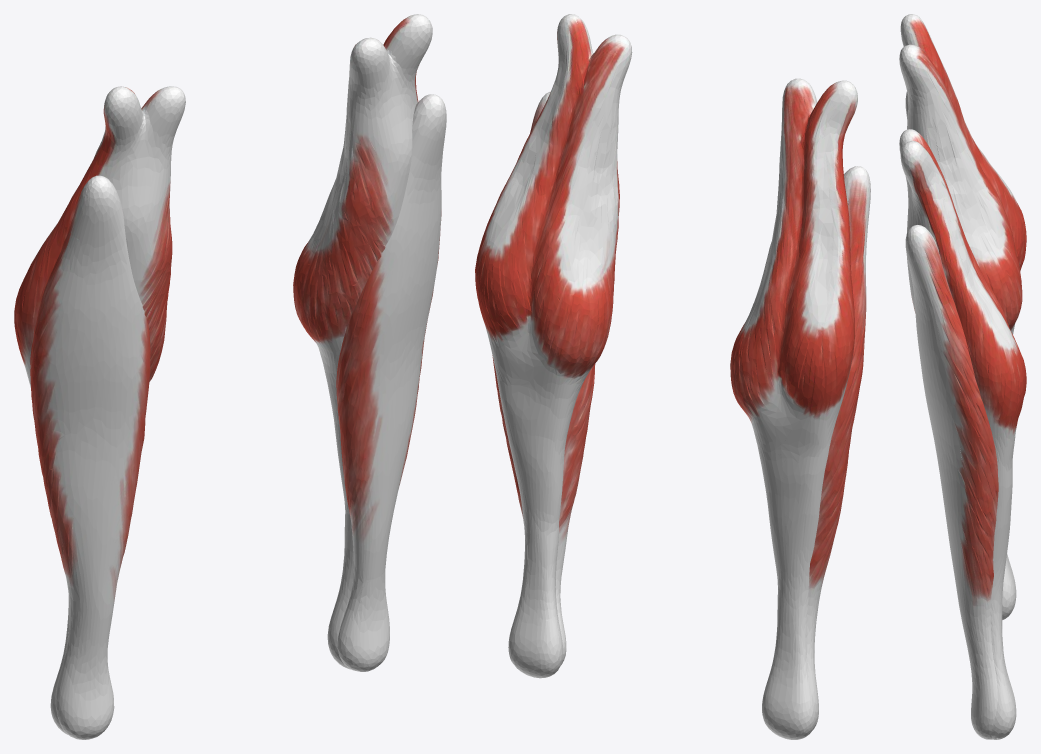
The model's file is SubTool-14-16775501.OBJ.
3 renders of one model, left to right at view 1: azimuth 30°, elevation 25°; view 2: azimuth 150°, elevation 25°; view 3: azimuth 270°, elevation 25°, orthographic. The views are drawn at different scales.
Visible parts, largest first — view 1: Group27261; view 2: Group27261; view 3: Group27261.
Part boxes in pixels (box(x1,y1,x2,y2)): Group27261: box(14, 14, 446, 739); Group27261: box(475, 14, 870, 739); Group27261: box(899, 14, 1026, 739).
Bounding box in the file's own units: 12.8 × 20.6 × 3.96.
1 material, 1 textured.
